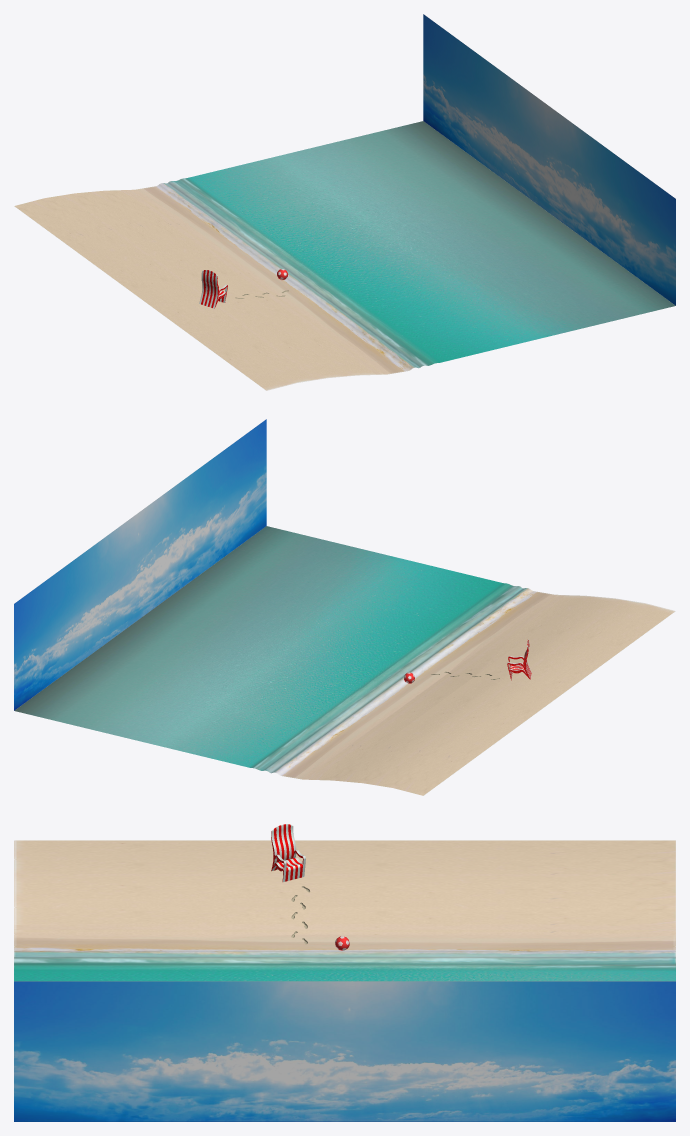
3 views of the same model, one above another, from view 1: azimuth 30°, elevation 25°; view 2: azimuth 150°, elevation 25°; view 3: azimuth 270°, elevation 25° (orthographic). The views are drawn at different scales.
Parts seen in each view (by area): view 1: SketchUp, group_0; view 2: SketchUp, group_0; view 3: group_0, SketchUp.
Boxes of the visible parts, x1,y1,x2,y2 form: SketchUp: (14,121,675,390); group_0: (423,14,675,305); SketchUp: (14,526,675,795); group_0: (14,419,266,710); group_0: (14,981,675,1121); SketchUp: (14,840,675,981).
Size of the model in its own units: 5561 by 5943 by 1391.
Materials: 7 (2 with a texture image).
